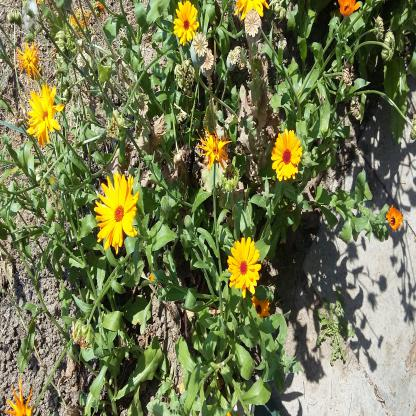marigold: (94, 172, 139, 254), (27, 83, 64, 146), (227, 237, 262, 299), (268, 130, 302, 184), (201, 124, 231, 173), (173, 0, 200, 46), (17, 39, 42, 82), (250, 289, 271, 324), (386, 202, 404, 236)
